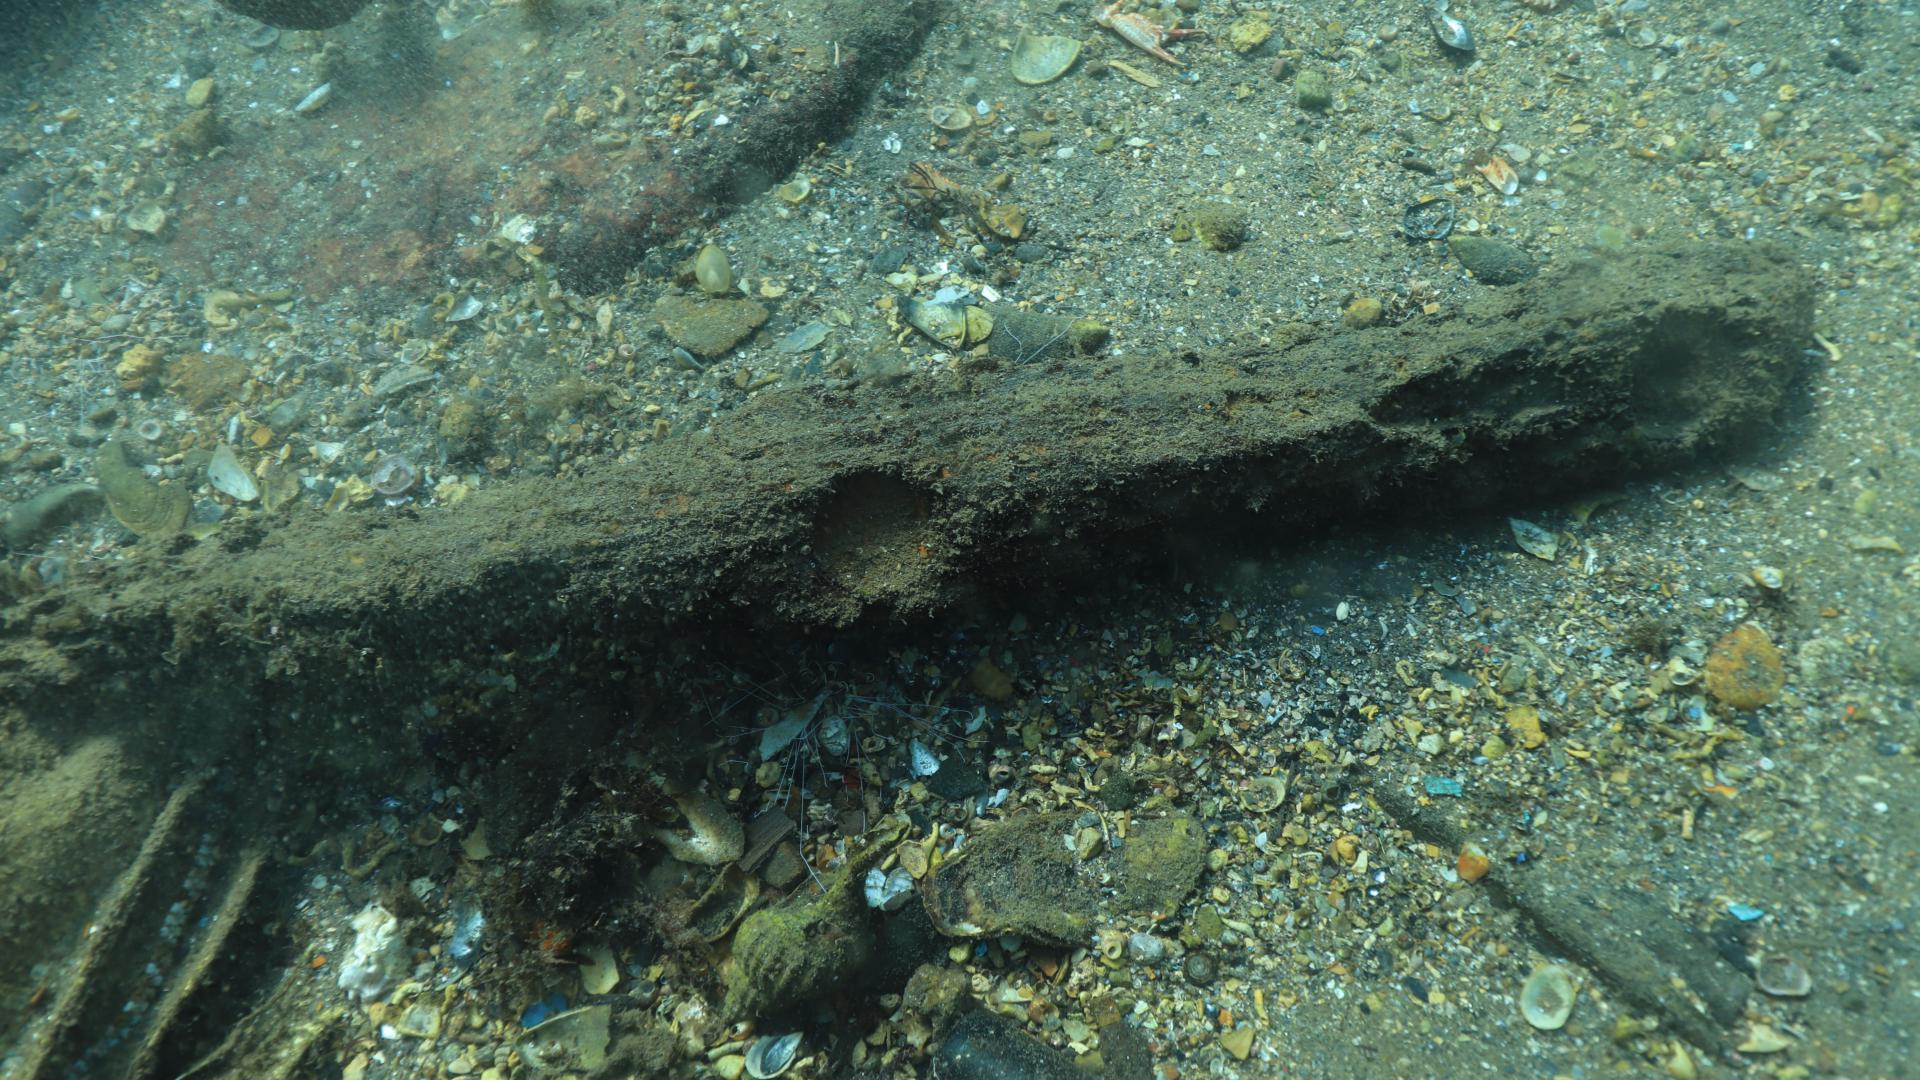wood: (0, 237, 1813, 723)
